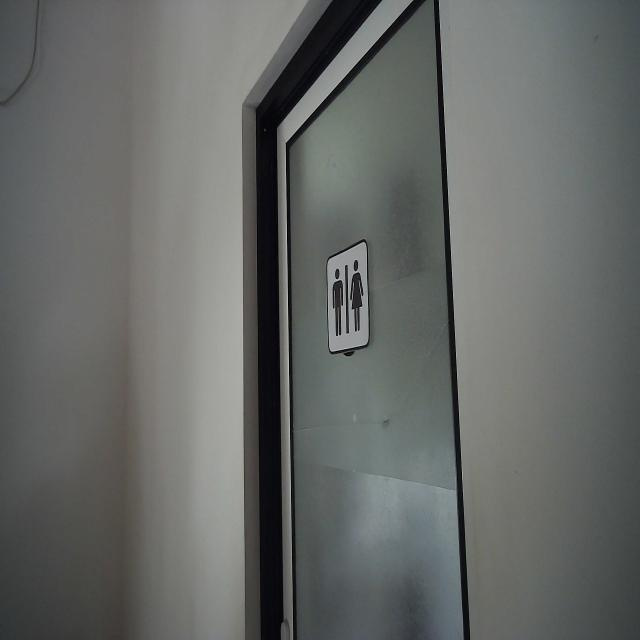restroom: (324, 236, 372, 358)
